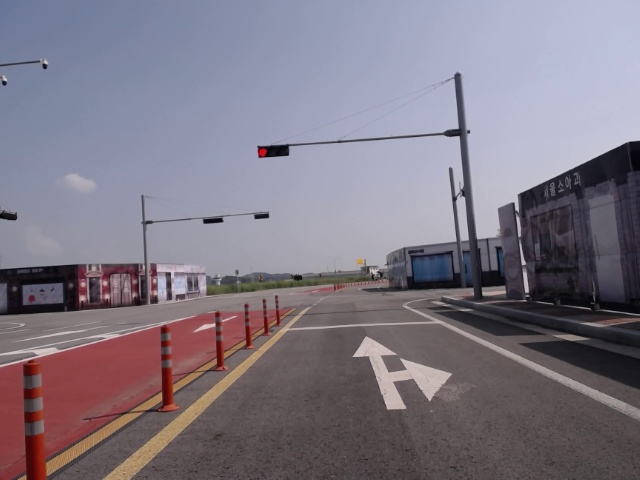red_3: (257, 145, 290, 157)
